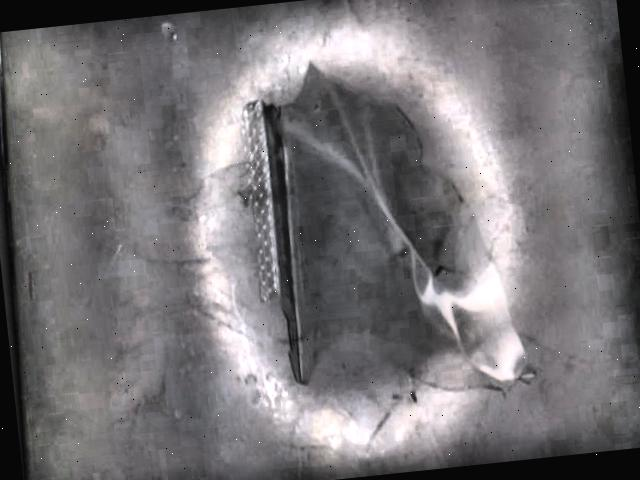Plastic: (241, 62, 536, 396)
